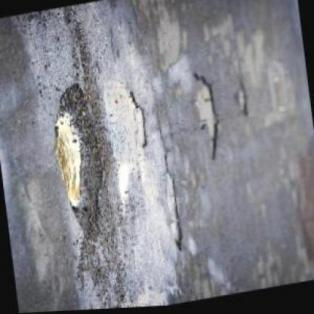Hueco: (48, 81, 115, 243), (191, 71, 223, 165), (165, 172, 186, 254), (128, 91, 148, 151), (236, 82, 252, 120)
